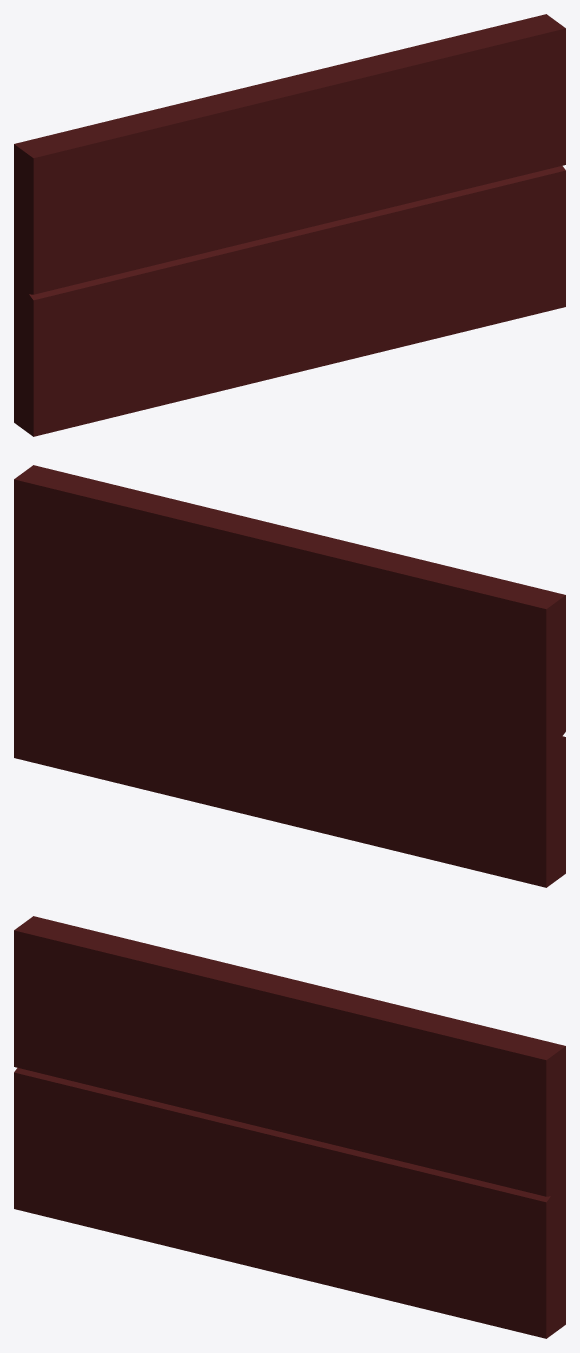
Rendered from Pared3.FBX.
3 renders of one model, top to bottom at view 1: azimuth 30°, elevation 25°; view 2: azimuth 150°, elevation 25°; view 3: azimuth 330°, elevation 25°, orthographic.
Visible parts, largest first — view 1: Pared3_LP; view 2: Pared3_LP; view 3: Pared3_LP.
Boxes of the visible parts, x1,y1,x2,y2 form: Pared3_LP: (14, 14, 565, 436); Pared3_LP: (14, 465, 565, 887); Pared3_LP: (14, 916, 565, 1338).
Size of the model in its own units: 157 by 78.74 by 10.
